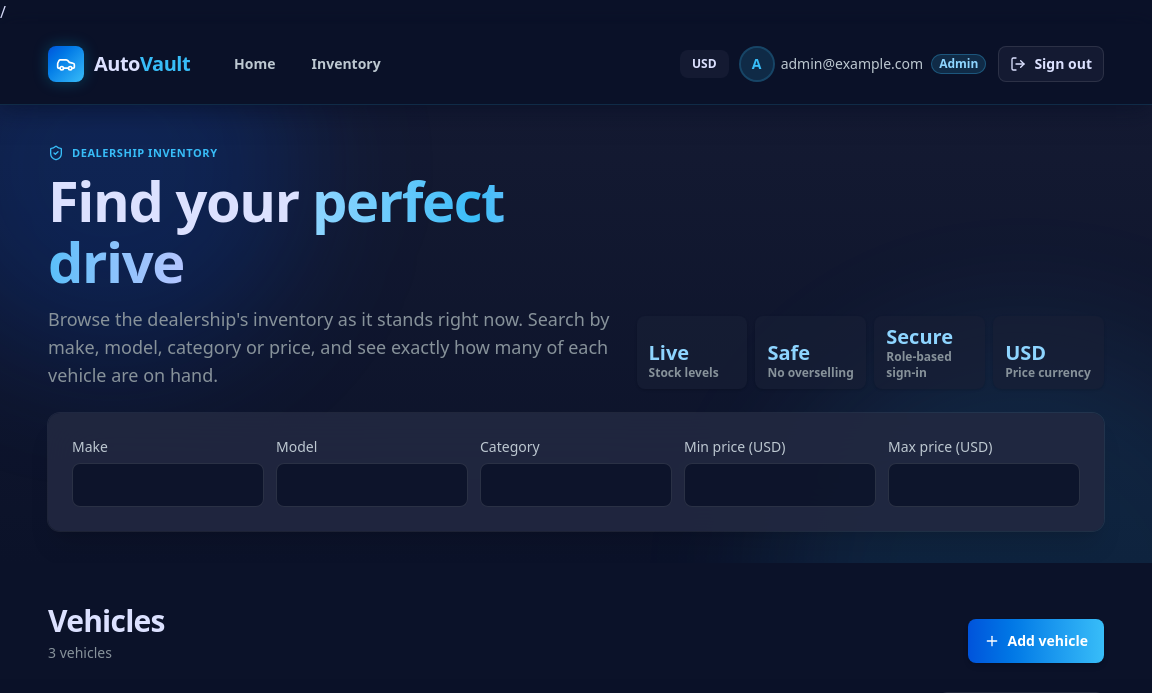
Test: adding a vehicle › checks the form first › names every problem beside its field, puts the cursor on the first, and sends nothing
What coordinates should you click on to do the following:
click the button "Add vehicle"
I would click on:
 (1036, 641)
Its box is [968,619,1104,663].
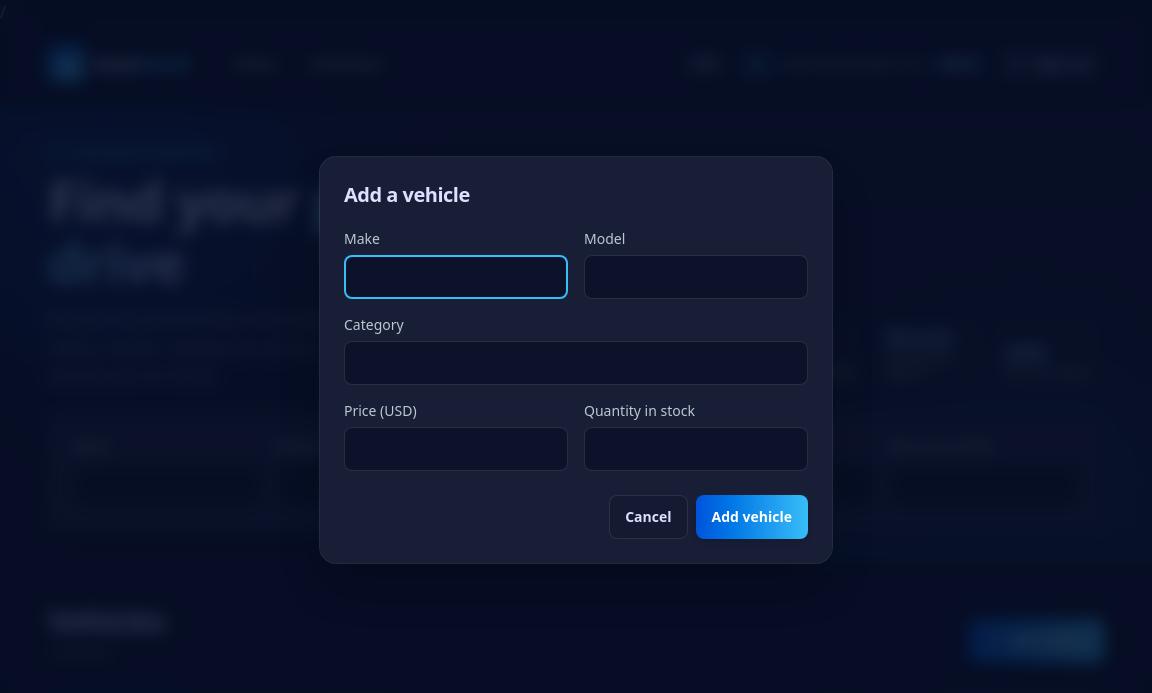
What coordinates should you click on to do the following:
click the button "Add vehicle"
I would click on:
 (752, 517)
Its box is [696,495,808,539].
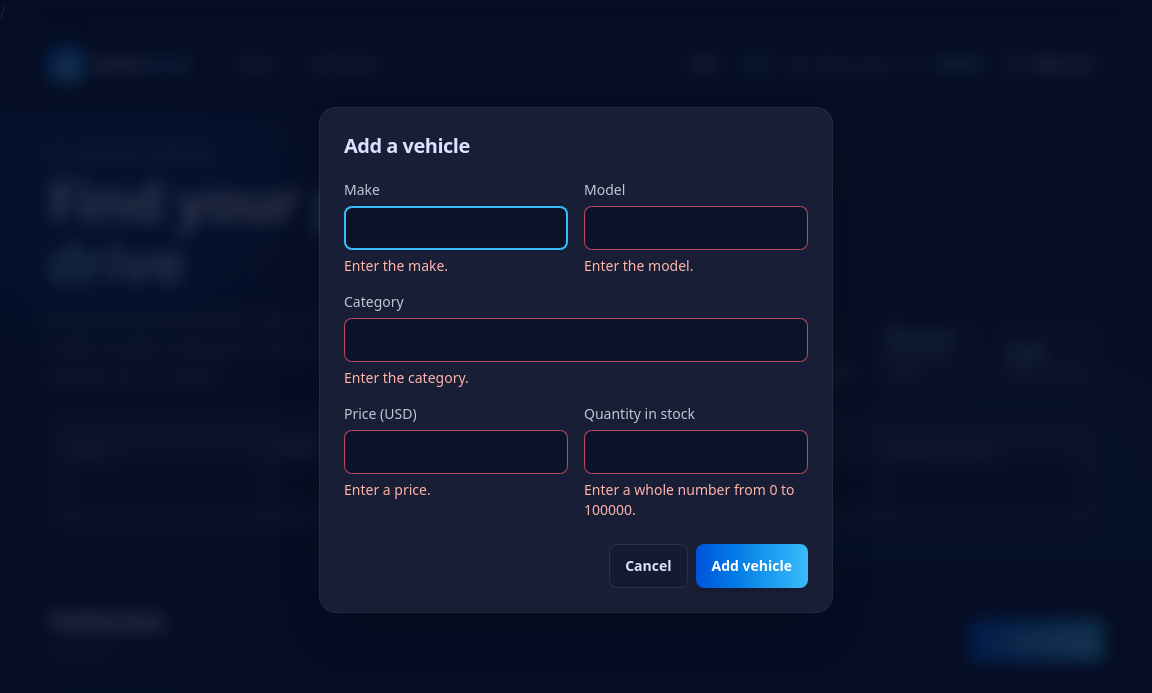
Expected: the text "Enter the make." is shown, [344,256,448,275]
Expected: the text "Enter the model." is shown, [584,256,694,275]
Expected: the text "Enter the category." is shown, [344,368,469,387]
